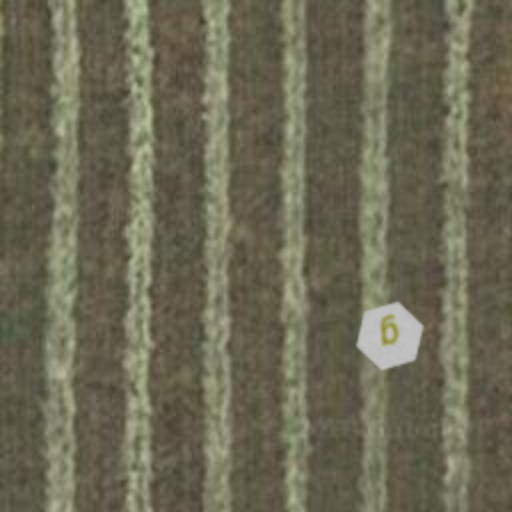hexagon: (346, 292, 434, 380)
